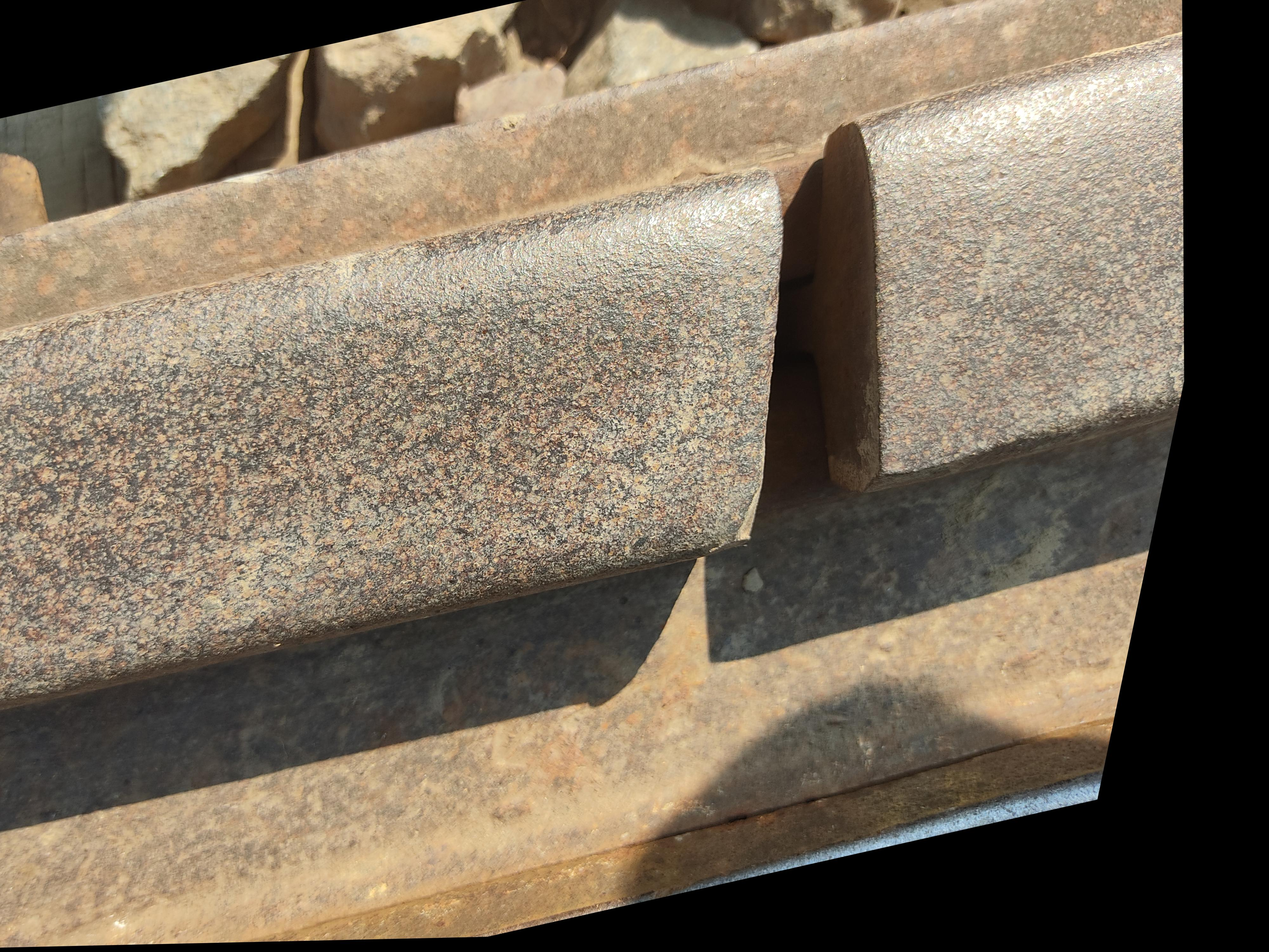person: (168, 515, 607, 905)
